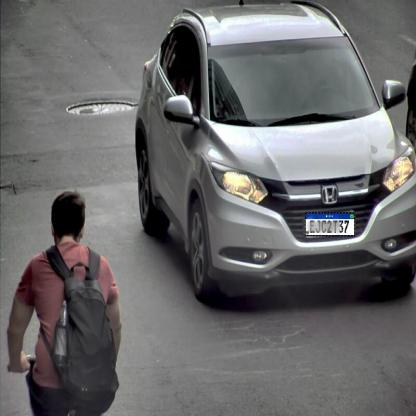PlacaM: (305, 212, 355, 237)
